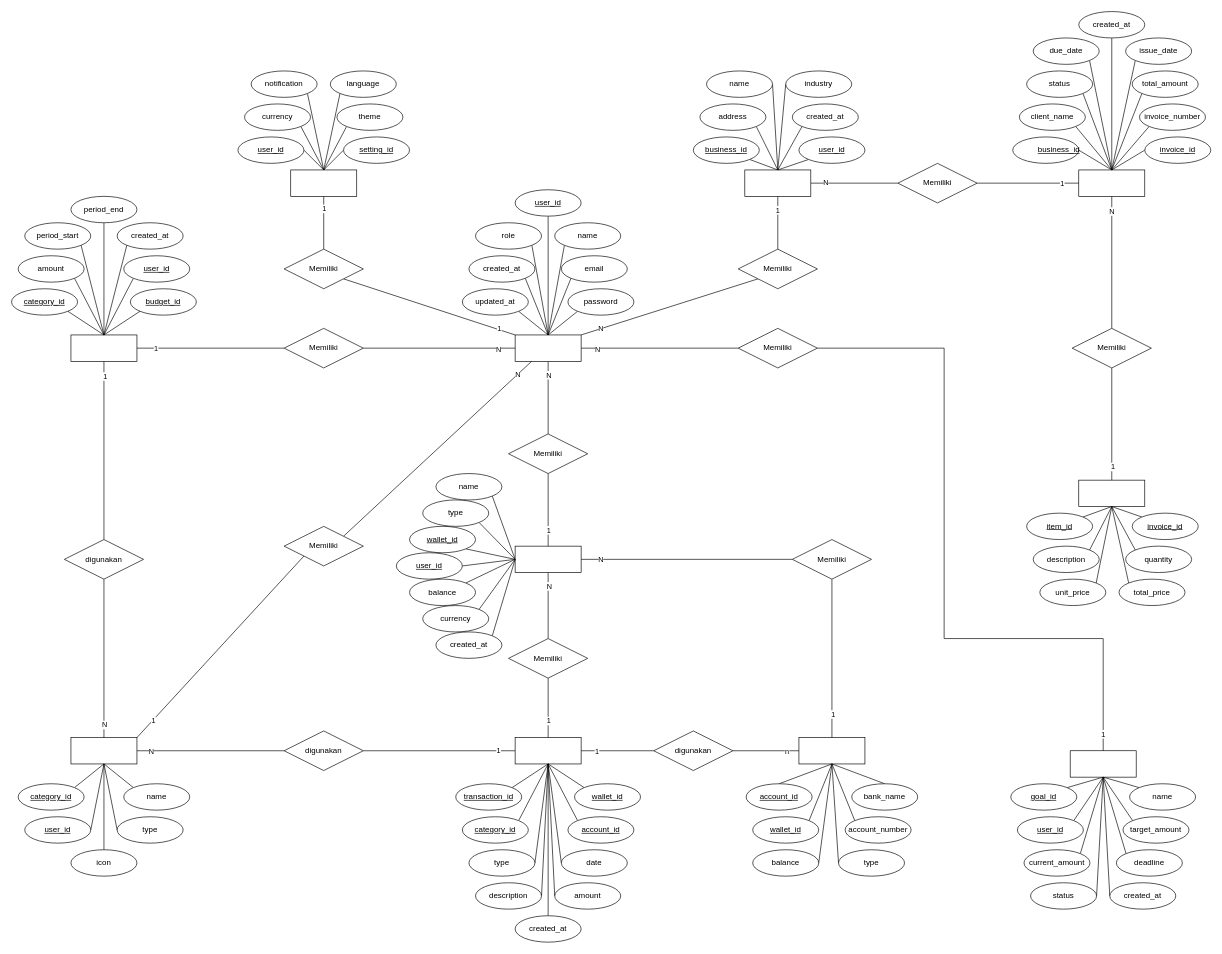
Some shapes in this 1222 by 954 pixel diagram are drawn without their labels. The centre of each missing label's shape, as x and y in pixels:
accounts: the point at 831,750
budgets: the point at 103,347
businesses: the point at 777,182
categories: the point at 103,750
goals: the point at 1103,763
invoice_items: the point at 1111,493
invoices: the point at 1111,182
settings: the point at 323,182
transactions: the point at 547,750
users: the point at 547,347
wallets: the point at 547,559
